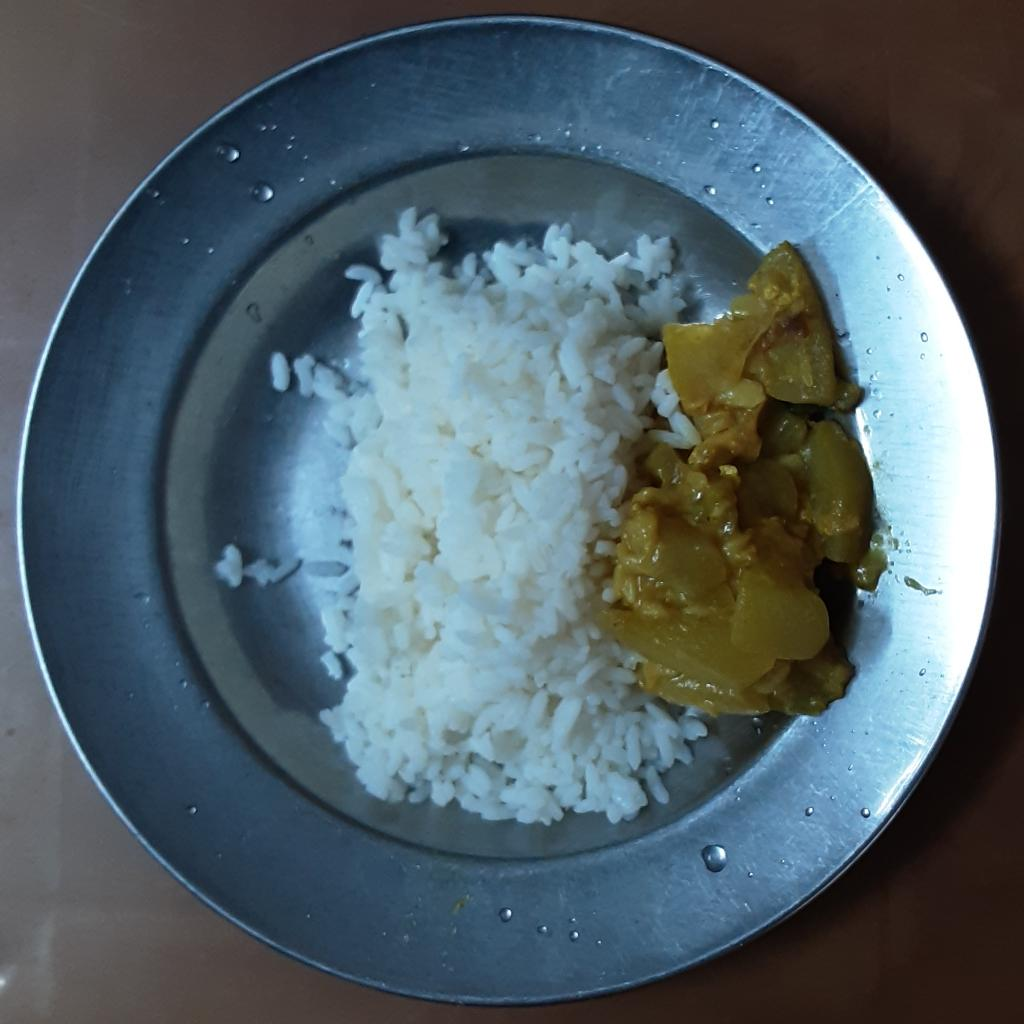lau: (601, 235, 878, 724)
rice: (216, 204, 707, 825)
